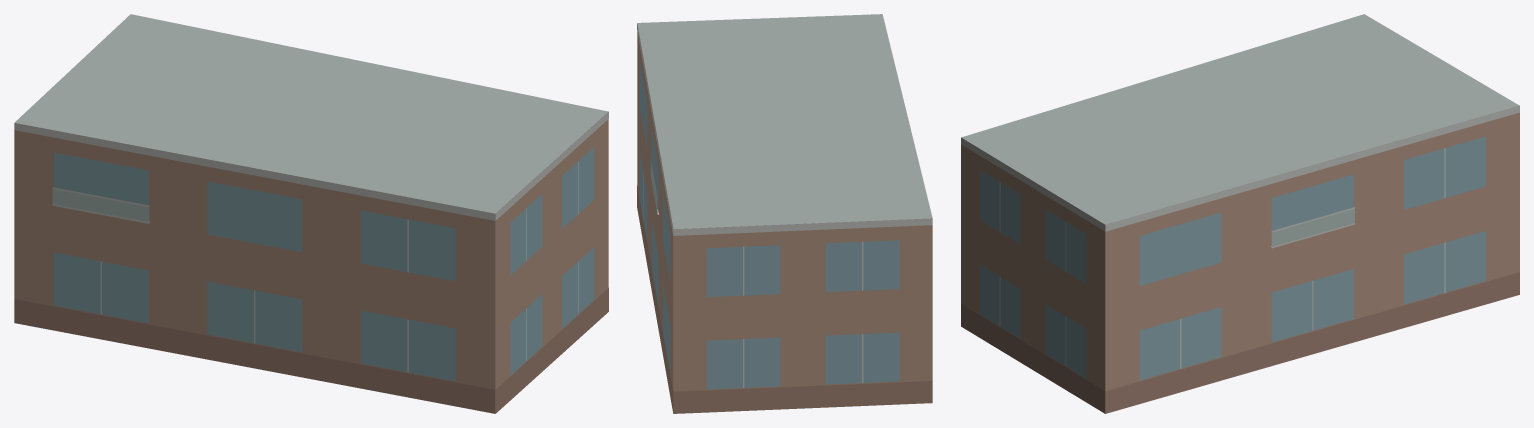
File: survey-upis-32596305.glb
3 renders of one model, left to right at view 1: azimuth 30°, elevation 25°; view 2: azimuth 150°, elevation 25°; view 3: azimuth 270°, elevation 25°, orthographic. The views are drawn at different scales.
Visible parts, largest first — view 1: survey-upis-32596305.tmp; view 2: survey-upis-32596305.tmp; view 3: survey-upis-32596305.tmp.
Boxes of the visible parts, <box> form: survey-upis-32596305.tmp: <box>14,14,608,413</box>; survey-upis-32596305.tmp: <box>637,14,932,413</box>; survey-upis-32596305.tmp: <box>961,14,1519,413</box>.
Size of the model in its own units: 16.03 by 6.7 by 17.95.
